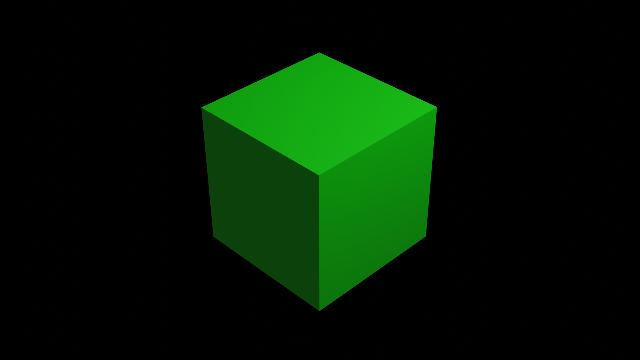Cube: (186, 43, 450, 327)
